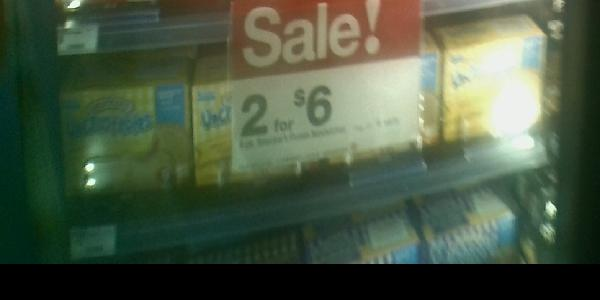icecream: (322, 25, 443, 184), (190, 50, 325, 189), (59, 58, 191, 196), (441, 19, 551, 142)
